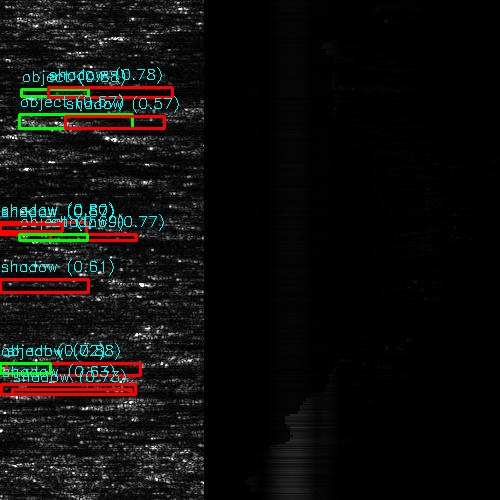rock: (31, 119, 124, 130), (0, 364, 48, 375), (25, 235, 98, 240)
shadow: (0, 364, 148, 375), (0, 195, 189, 200), (78, 119, 158, 130), (0, 278, 46, 297), (0, 394, 40, 407), (0, 271, 53, 280), (0, 386, 140, 389), (62, 235, 137, 240)
